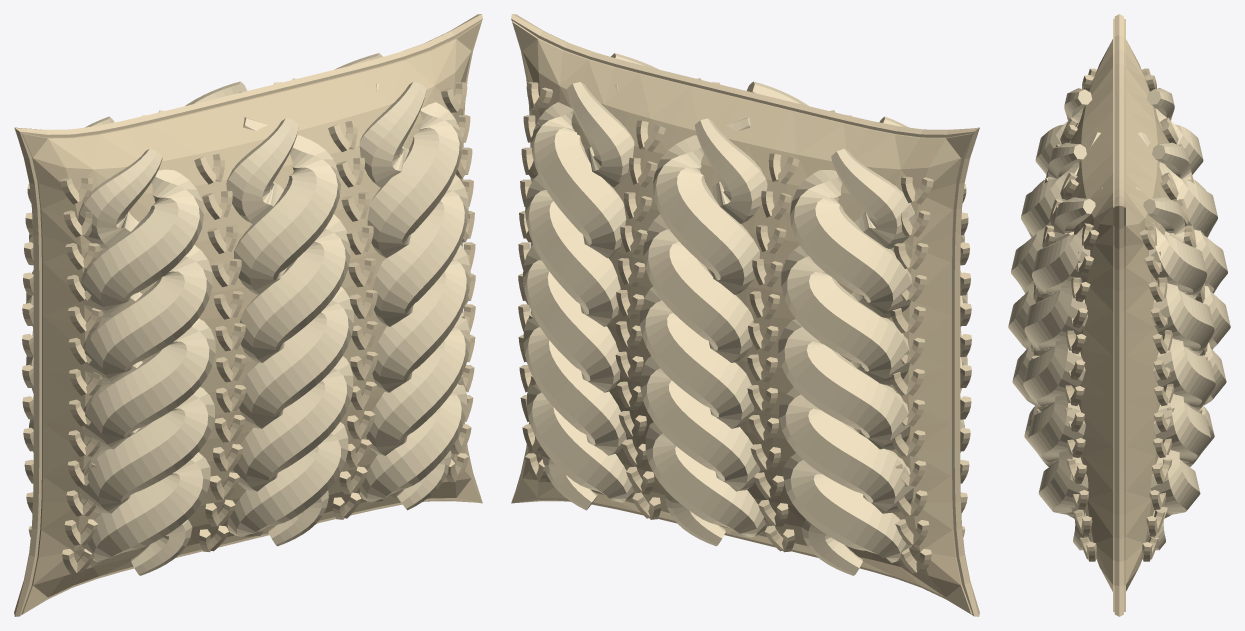
File: 20 Knitted Cushion.glb
3 views of the same model, side by side, from view 1: azimuth 30°, elevation 25°; view 2: azimuth 150°, elevation 25°; view 3: azimuth 270°, elevation 25° (orthographic). The views are drawn at different scales.
Visible parts, largest first — view 1: Plump cable column 2 strand 2 face 1; view 2: Plump cable column 2 strand 2 face 1; view 3: Plump cable column 2 strand 2 face 1.
Boxes of the visible parts, <box> form: Plump cable column 2 strand 2 face 1: <box>14,14,482,616</box>; Plump cable column 2 strand 2 face 1: <box>511,14,979,616</box>; Plump cable column 2 strand 2 face 1: <box>1008,14,1230,616</box>.
Bounding box in the file's own units: 3.19 × 3.19 × 1.57.
